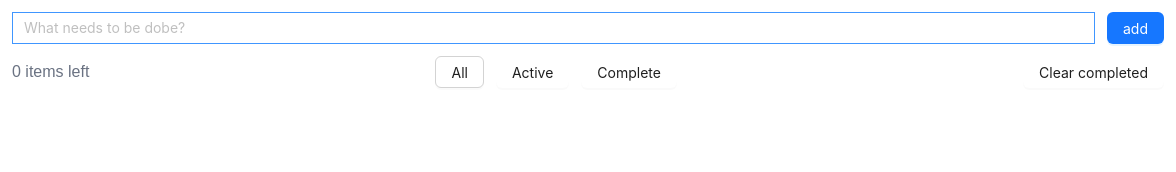
Test case: Todos component › Добавляет задачу с данными
Type "by mcts" into the field at (554, 28), box [12,12,1095,44]
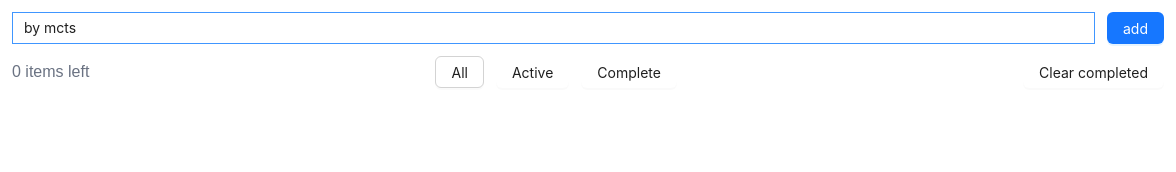
Click the button "add" at (1136, 28), box [1107,12,1164,44]
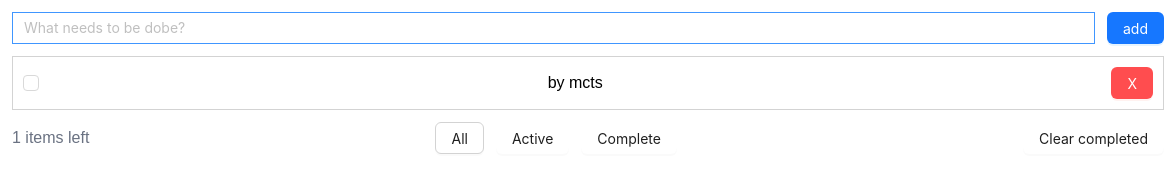
Expected: the field is empty, [12,12,1095,44]
Expected: the heading "by mcts" is shown, [548,71,603,95]
